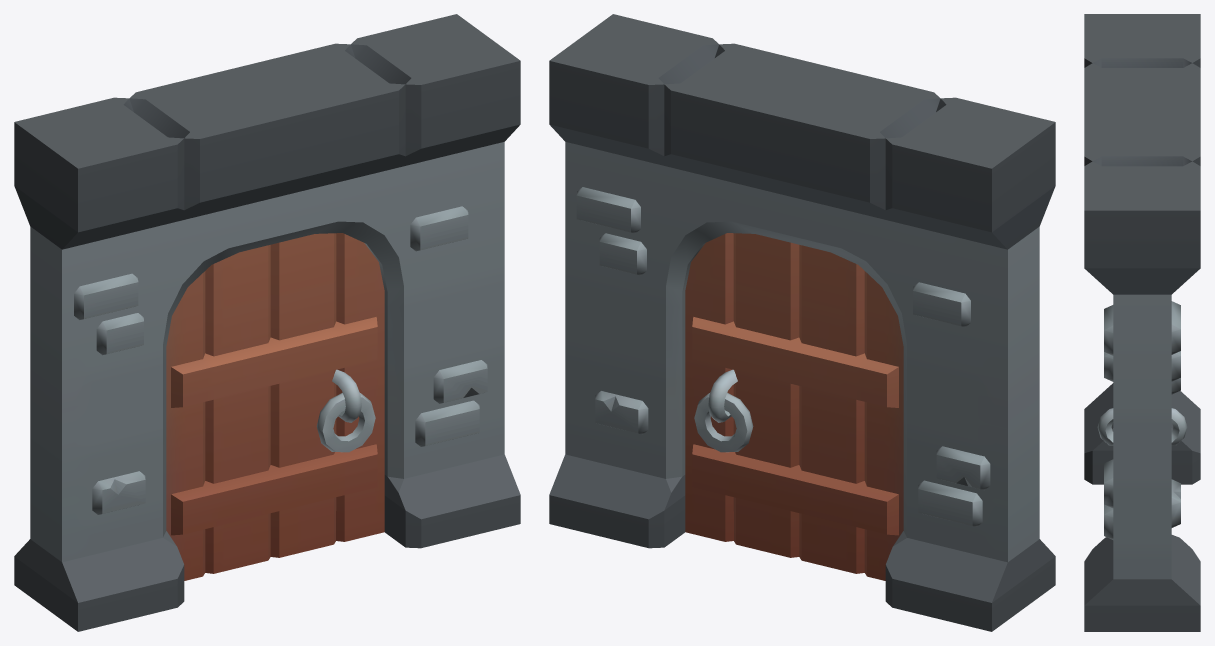
File: wall_doorway.glb
3 renders of one model, left to right at view 1: azimuth 30°, elevation 25°; view 2: azimuth 150°, elevation 25°; view 3: azimuth 270°, elevation 25°, orthographic. The views are drawn at different scales.
Parts seen in each view (by area): view 1: wall_doorway; view 2: wall_doorway; view 3: wall_doorway.
Part boxes in pixels (x1,y1,x2,y2): wall_doorway: (14, 14, 520, 631); wall_doorway: (549, 14, 1055, 631); wall_doorway: (1084, 14, 1200, 631).
Size of the model in its own units: 4 by 4 by 1.
Materials: 1 (1 with a texture image).
